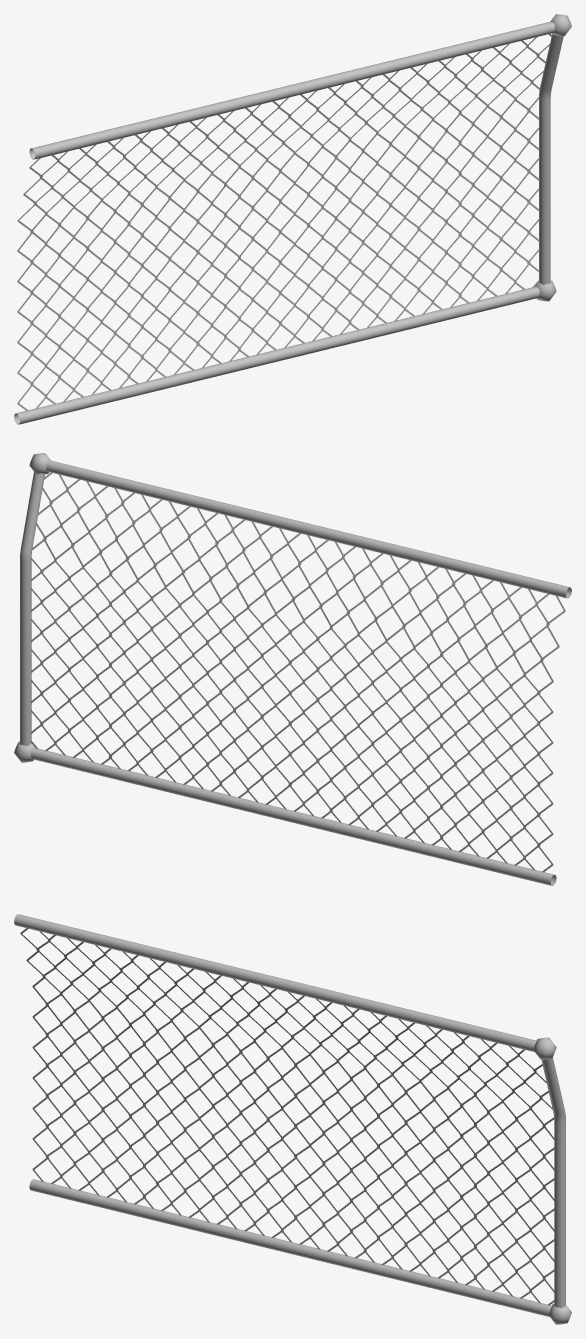
The model's file is Half Bent Fence.FBX.
3 renders of one model, top to bottom at view 1: azimuth 30°, elevation 25°; view 2: azimuth 150°, elevation 25°; view 3: azimuth 330°, elevation 25°, orthographic.
Visible parts, largest first — view 1: Plane001, Plane002; view 2: Plane001, Plane002; view 3: Plane001, Plane002.
Boxes of the visible parts, left/top/right/bottom form: Plane001: left=17, top=34, right=552, bottom=410; Plane002: left=14, top=14, right=571, bottom=424; Plane001: left=31, top=472, right=565, bottom=872; Plane002: left=14, top=453, right=571, bottom=885; Plane001: left=20, top=928, right=554, bottom=1305; Plane002: left=14, top=914, right=571, bottom=1324.
Bounding box in the file's own units: 161 × 85.04 × 14.21.
2 materials, 2 textured.
